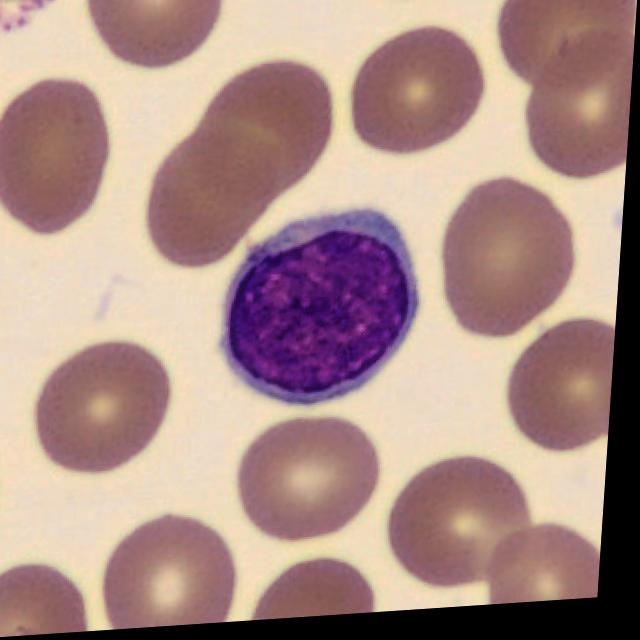Linfocito: (228, 214, 422, 410)
